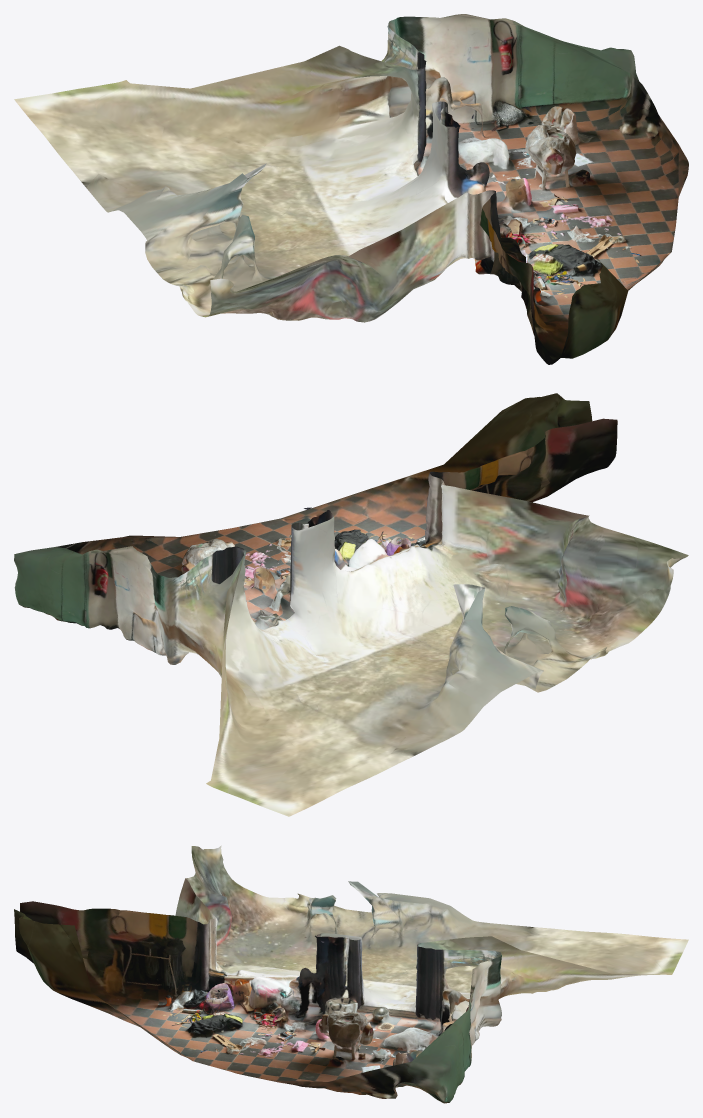
3 renders of one model, top to bottom at view 1: azimuth 30°, elevation 25°; view 2: azimuth 150°, elevation 25°; view 3: azimuth 270°, elevation 25°, orthographic. The views are drawn at different scales.
Parts seen in each view (by area): view 1: photogrammetry; view 2: photogrammetry; view 3: photogrammetry.
Boxes of the visible parts, left/top/right/bottom form: photogrammetry: left=14, top=14, right=688, bottom=364; photogrammetry: left=14, top=393, right=688, bottom=816; photogrammetry: left=14, top=845, right=688, bottom=1103.
Bounding box in the file's own units: 7.27 × 1.4 × 9.81.
1 material, 1 textured.
